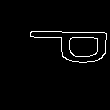P_E: (4, 35, 106, 75)
